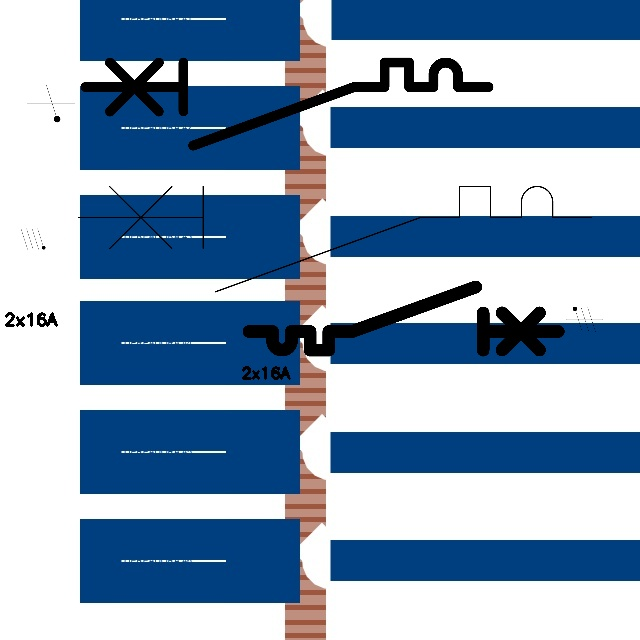interruptor_termomagnetico: (65, 173, 605, 305), (74, 52, 498, 155), (241, 279, 566, 358)
